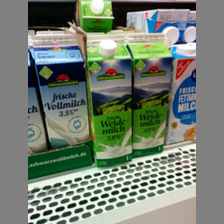milk: (31, 32, 94, 148), (87, 33, 136, 166), (129, 34, 170, 155)
